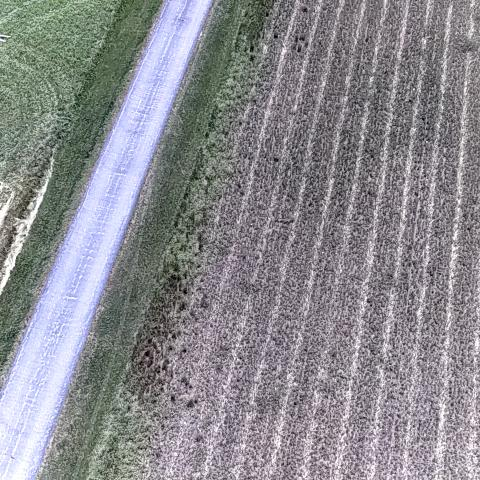person: (0, 25, 11, 45)
